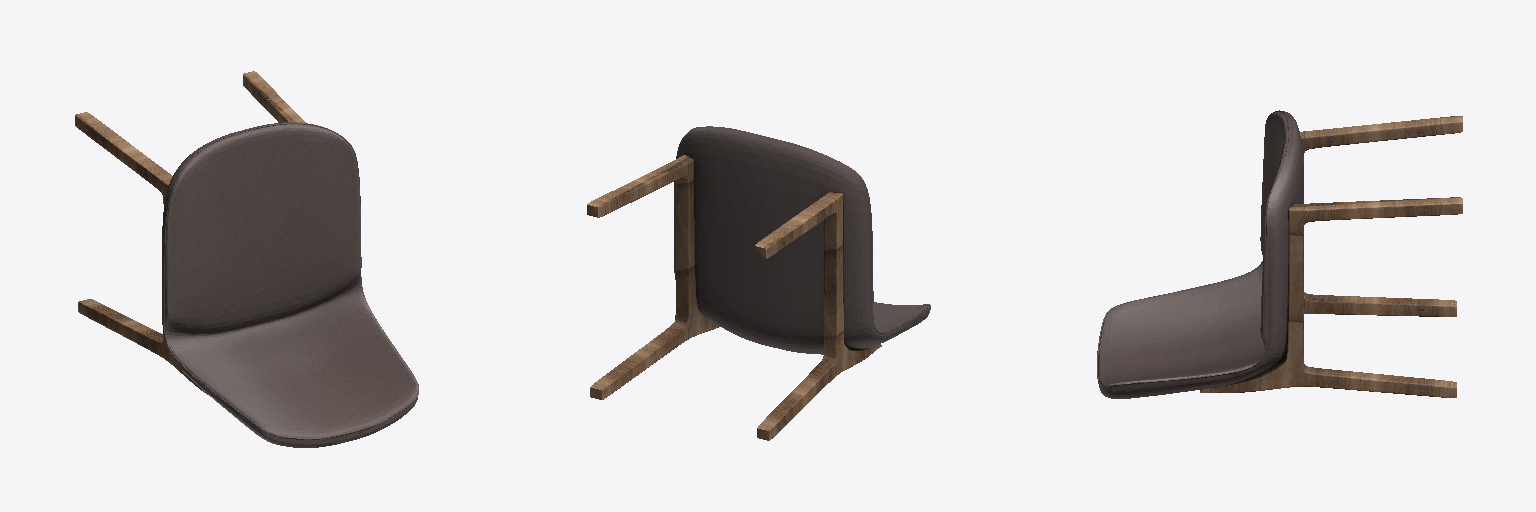
The picture shows the model from 3 angles: view 1: azimuth 30°, elevation 25°; view 2: azimuth 150°, elevation 25°; view 3: azimuth 270°, elevation 25°; orthographic projection.
Size of the model in its own units: 0.4637 by 0.5534 by 0.7443.
1 materials, 1 textured.